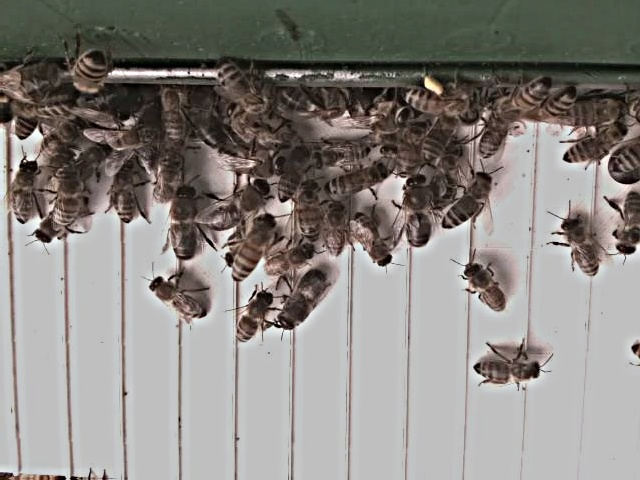Drone: (201, 178, 269, 235), (275, 268, 328, 337), (166, 183, 202, 265), (400, 171, 435, 250)
Worker: (438, 175, 493, 233), (230, 216, 273, 286), (146, 278, 208, 322), (561, 127, 626, 168), (458, 261, 505, 316), (558, 217, 598, 280), (231, 290, 271, 349), (350, 213, 391, 268), (307, 138, 373, 171), (323, 164, 386, 198), (470, 358, 543, 387), (473, 108, 509, 165), (9, 160, 39, 227), (50, 167, 82, 229), (276, 148, 310, 206), (261, 244, 314, 280), (613, 194, 640, 260), (110, 160, 136, 228), (294, 180, 319, 244), (323, 198, 348, 259)
